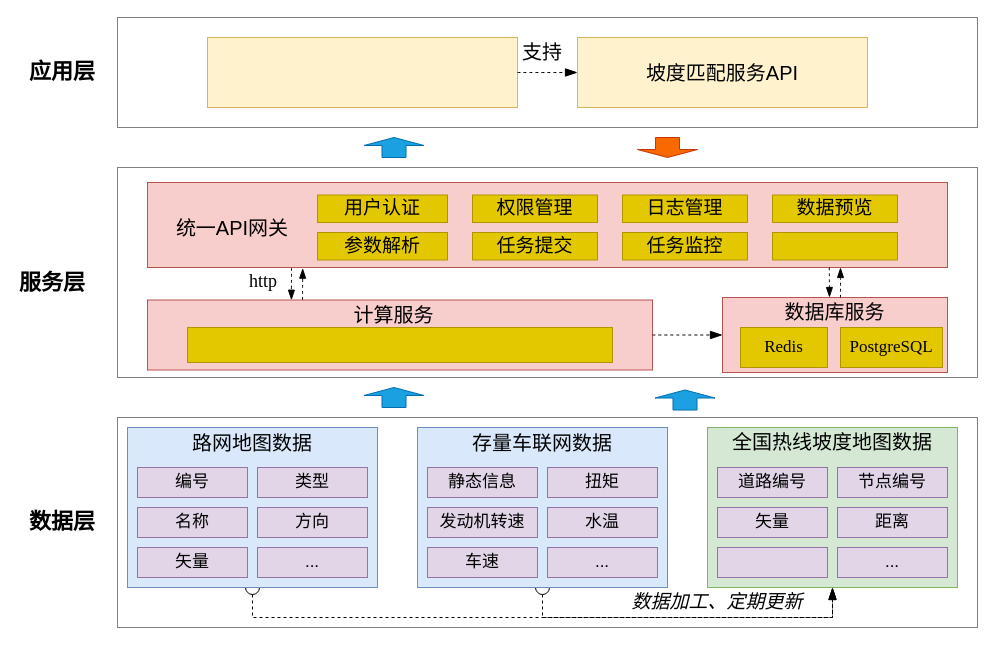
The diagram is 995 pixels wide and 652 high, and some of its shapes have lost their labels. The centre of each missing label's shape, as x and y in pixels:
Apache Sedona(Spark): pixel 399 344
坡度: pixel 772 562
数据下载: pixel 835 246
路网匹配服务API: pixel 362 72
